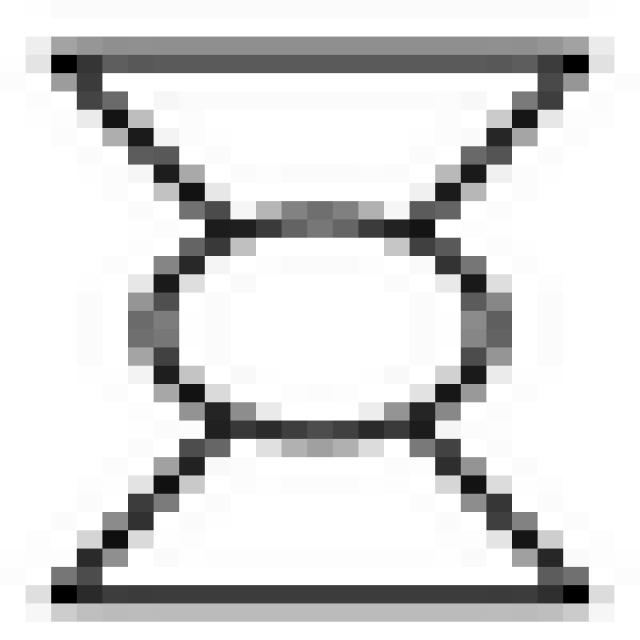ball valve: (56, 48, 592, 592)
